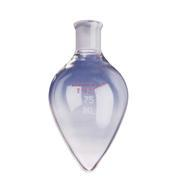Pear shaped flask: (45, 17, 128, 175)
